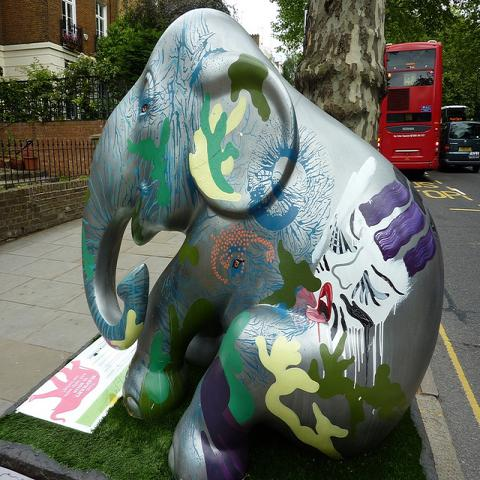bus: (380, 41, 442, 166)
car: (438, 121, 479, 172)
